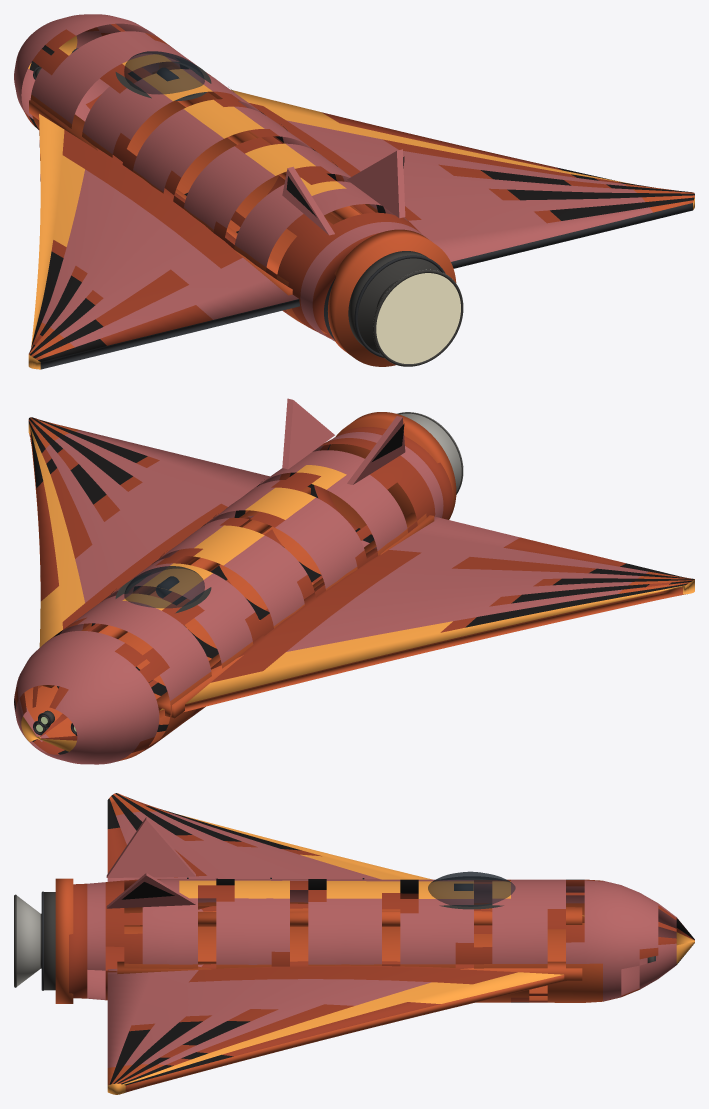
The model's file is Ship_TigerWing_6.glb.
3 renders of one model, top to bottom at view 1: azimuth 30°, elevation 25°; view 2: azimuth 150°, elevation 25°; view 3: azimuth 270°, elevation 25°, orthographic. The views are drawn at different scales.
Visible parts, largest first — view 1: Fuselage_OrganicEllipsoidTaperedBody_BakedPaint, Wing_Left_LongDeltaAerofoil_BakedPaint, Wing_Right_LongDeltaAerofoil_BakedPaint, EngineEmitter, AftCollar_IntegratedSingleEngineBand, EngineBlock_AftDarkSingleEngineHousing, CanopyGlass_LowInsetDome, TailFin_Right_CantedStabilizer, WingRoot_Left_EmbeddedShoulder, TailFin_Left_CantedStabilizer, EngineLip_Center_DarkWideRim, WingRoot_Right_EmbeddedShoulder (+2 smaller); view 2: Fuselage_OrganicEllipsoidTaperedBody_BakedPaint, Wing_Left_LongDeltaAerofoil_BakedPaint, Wing_Right_LongDeltaAerofoil_BakedPaint, AftCollar_IntegratedSingleEngineBand, CanopyGlass_LowInsetDome, TailFin_Right_CantedStabilizer, WingRoot_Left_EmbeddedShoulder, TailFin_Left_CantedStabilizer, EngineBell_Center_BroadBurnishedNozzle, WingRoot_Right_EmbeddedShoulder; view 3: Fuselage_OrganicEllipsoidTaperedBody_BakedPaint, Wing_Right_LongDeltaAerofoil_BakedPaint, Wing_Left_LongDeltaAerofoil_BakedPaint, TailFin_Left_CantedStabilizer, CanopyGlass_LowInsetDome, AftCollar_IntegratedSingleEngineBand, EngineBell_Center_BroadBurnishedNozzle, WingRoot_Left_EmbeddedShoulder, WingRoot_Right_EmbeddedShoulder, TailFin_Right_CantedStabilizer, EngineBlock_AftDarkSingleEngineHousing, TailFin_Right_BakedTrimPatch.
Boxes of the visible parts, x1,y1,x2,y2 form: Fuselage_OrganicEllipsoidTaperedBody_BakedPaint: (14,14,422,341); Wing_Left_LongDeltaAerofoil_BakedPaint: (28,114,299,369); Wing_Right_LongDeltaAerofoil_BakedPaint: (231,90,694,268); EngineEmitter: (376,273,460,363); AftCollar_IntegratedSingleEngineBand: (327,229,456,366); EngineBlock_AftDarkSingleEngineHousing: (348,251,440,353); CanopyGlass_LowInsetDome: (124,51,204,97); TailFin_Right_CantedStabilizer: (347,149,405,218); WingRoot_Left_EmbeddedShoulder: (29,100,292,295); TailFin_Left_CantedStabilizer: (282,166,334,235); EngineLip_Center_DarkWideRim: (373,269,463,366); WingRoot_Right_EmbeddedShoulder: (152,66,360,220); Fuselage_OrganicEllipsoidTaperedBody_BakedPaint: (14,427,452,764); Wing_Left_LongDeltaAerofoil_BakedPaint: (159,516,694,717); Wing_Right_LongDeltaAerofoil_BakedPaint: (28,417,269,688); AftCollar_IntegratedSingleEngineBand: (328,412,456,534); CanopyGlass_LowInsetDome: (124,566,204,608); TailFin_Right_CantedStabilizer: (282,398,334,469); WingRoot_Left_EmbeddedShoulder: (156,512,434,718); TailFin_Left_CantedStabilizer: (347,416,405,484); EngineBell_Center_BroadBurnishedNozzle: (397,412,463,494); WingRoot_Right_EmbeddedShoulder: (41,487,310,687); Fuselage_OrganicEllipsoidTaperedBody_BakedPaint: (69,878,694,1002); Wing_Right_LongDeltaAerofoil_BakedPaint: (107,961,566,1094); Wing_Left_LongDeltaAerofoil_BakedPaint: (107,793,584,922); TailFin_Left_CantedStabilizer: (106,817,195,877); CanopyGlass_LowInsetDome: (428,871,515,906); AftCollar_IntegratedSingleEngineBand: (55,878,73,1003); EngineBell_Center_BroadBurnishedNozzle: (16,895,40,986); WingRoot_Left_EmbeddedShoulder: (124,906,582,926); WingRoot_Right_EmbeddedShoulder: (117,961,582,980); TailFin_Right_CantedStabilizer: (106,873,195,908); EngineBlock_AftDarkSingleEngineHousing: (44,892,55,990); TailFin_Right_BakedTrimPatch: (122,882,174,899).
Size of the model in its own units: 6.94 by 1.74 by 6.87.
